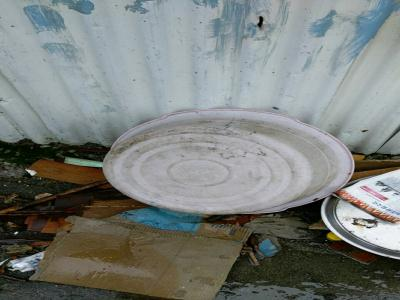bowl: (100, 104, 359, 222)
